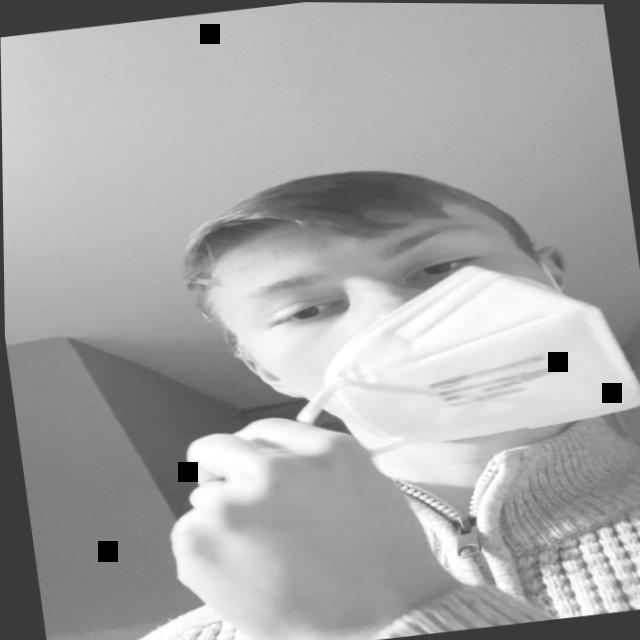NO-Mask: (195, 168, 640, 490)
